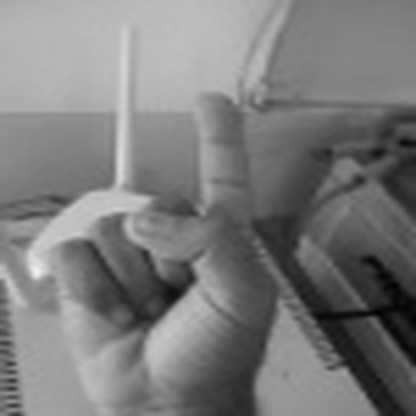d: (54, 82, 278, 414)
